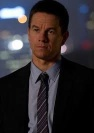male: (25, 3, 72, 65)
